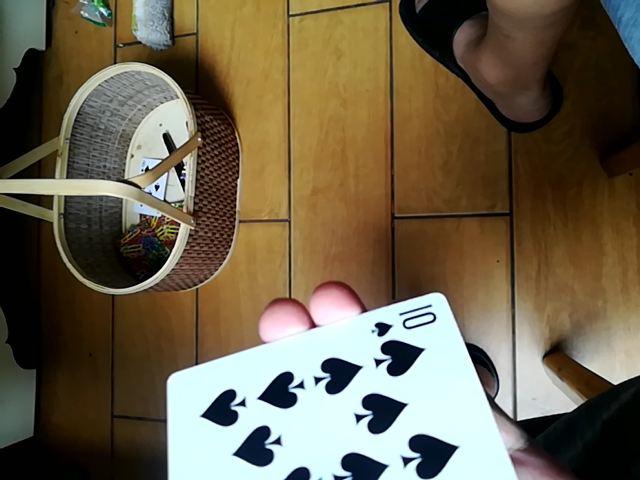ht 10: (167, 292, 510, 479)
